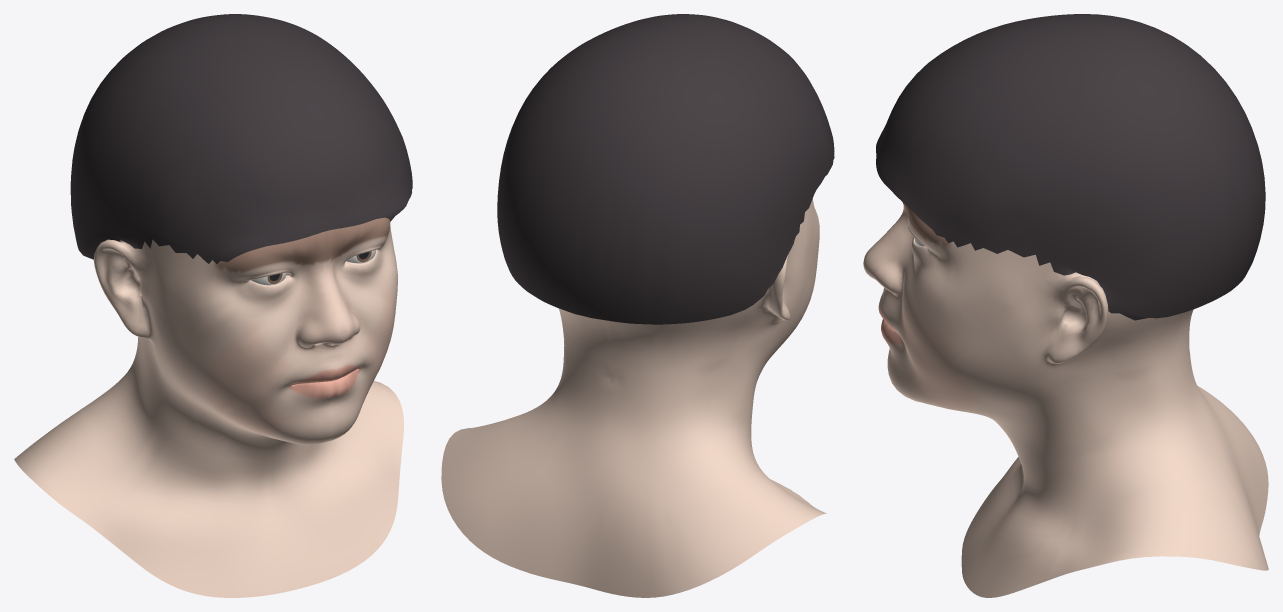
File: docent.glb
3 renders of one model, left to right at view 1: azimuth 30°, elevation 25°; view 2: azimuth 150°, elevation 25°; view 3: azimuth 270°, elevation 25°, orthographic. The views are drawn at different scales.
Parts seen in each view (by area): view 1: Head; view 2: Head; view 3: Head.
Part boxes in pixels (x1,y1,x2,y2): Head: [14, 14, 412, 597]; Head: [441, 14, 834, 597]; Head: [863, 14, 1268, 597].
Bounding box in the file's own units: 0.1928 × 0.263 × 0.1812.
